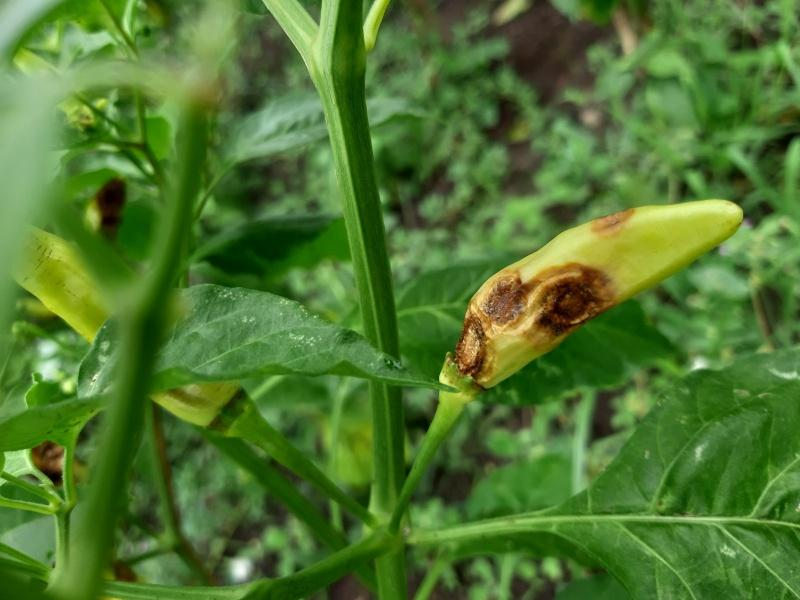antraknosa: (441, 197, 742, 397)
